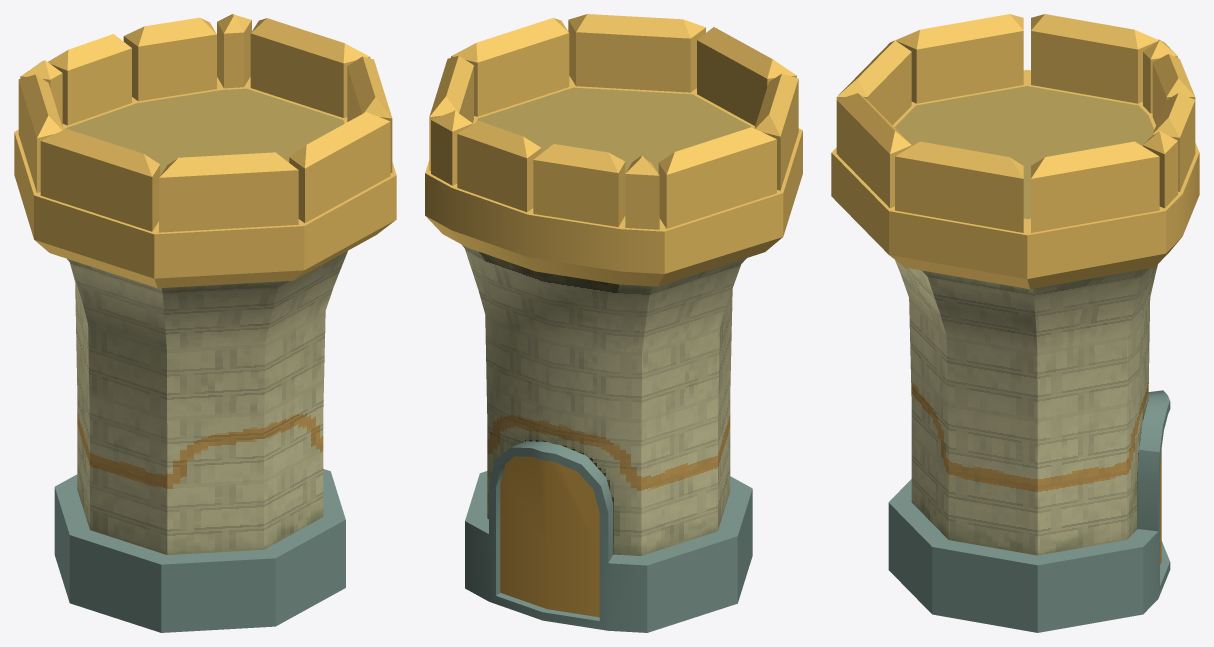
File: tower.glb
The picture shows the model from 3 angles, left to right: view 1: azimuth 30°, elevation 25°; view 2: azimuth 150°, elevation 25°; view 3: azimuth 270°, elevation 25°; orthographic projection.
Parts seen in each view (by area): view 1: Plane; view 2: Plane; view 3: Plane.
Boxes of the visible parts, bbox=[...] form: Plane: bbox=[14, 14, 396, 632]; Plane: bbox=[425, 14, 802, 632]; Plane: bbox=[831, 14, 1199, 632].
Size of the model in its own units: 2.63 by 3.58 by 2.47.
Materials: 5 (1 with a texture image).
